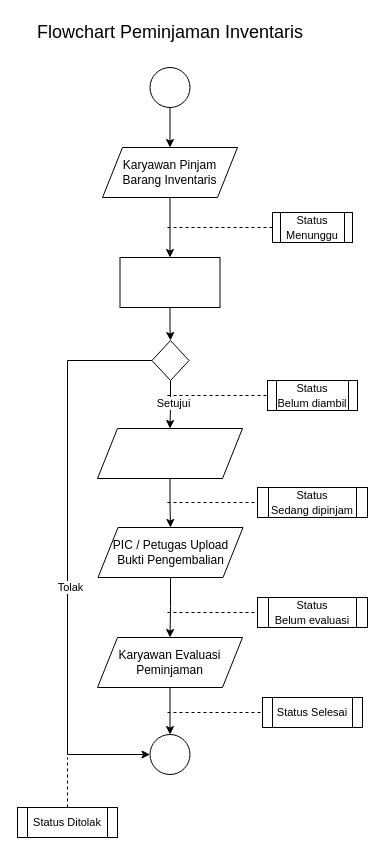
The diagram is 385 pixels wide and 855 high, and some of its shapes have lost their labels. Here are the shapes that lost their labels. From the top down, the centre of each, then its label:
At (x=169, y=87): "Start".
At (x=169, y=282): "PIC Inventaris".
At (x=169, y=453): "PIC / Petugas Upload Bukti Pengambilan".
At (x=169, y=754): "End".
